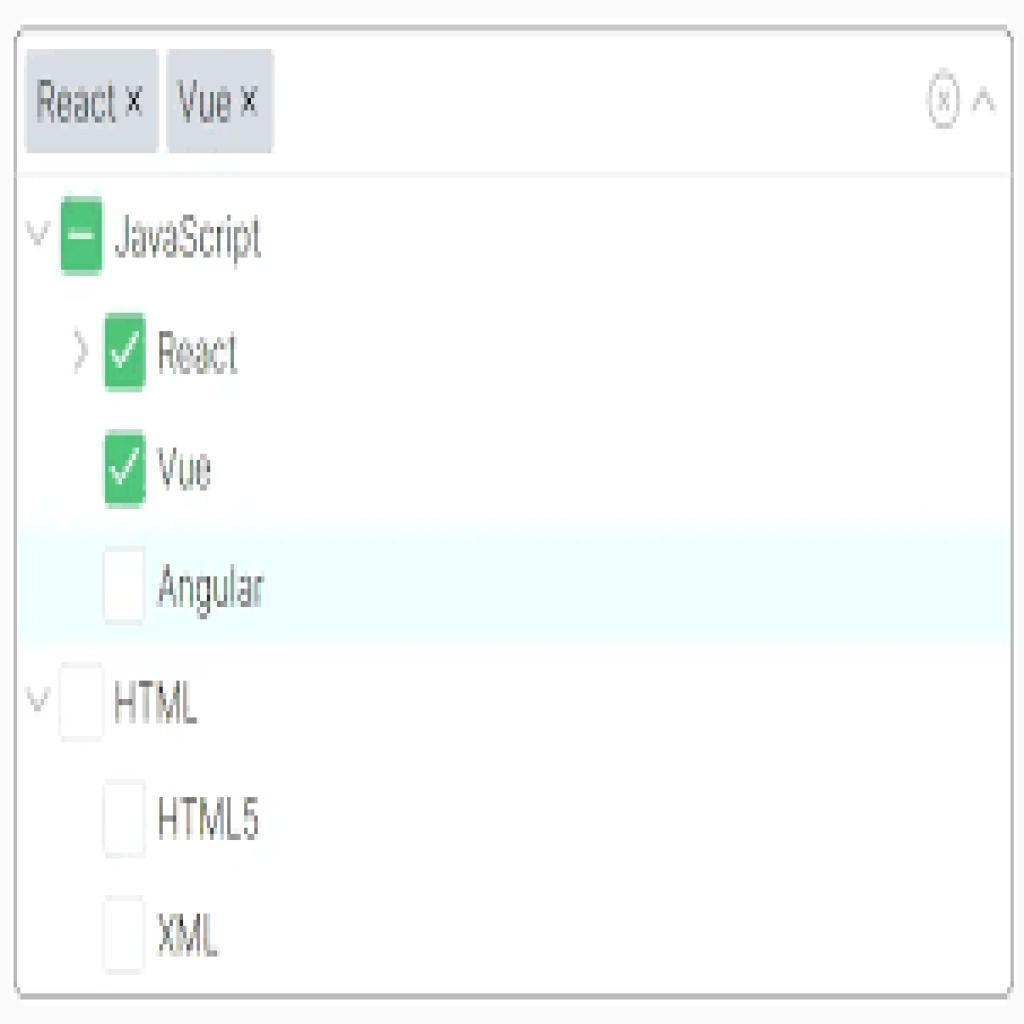button: (27, 51, 162, 155), (168, 48, 276, 153)
checkbox: (53, 660, 105, 735), (103, 310, 148, 394), (103, 895, 154, 968), (104, 780, 147, 859), (106, 430, 147, 509), (61, 199, 103, 276), (103, 546, 144, 618)
dropdown: (18, 32, 1014, 174)
